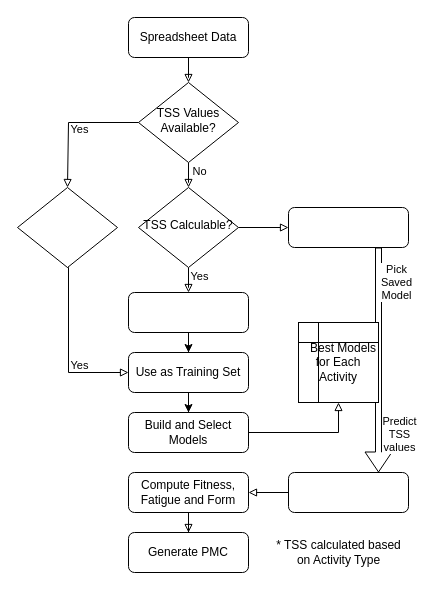
Some shapes in this 433 by 590 pixel diagram are drawn without their labels. Each missing label, with the box of its shape:
Calculate TSS from Additional Data *: (128, 292, 248, 332)
Fill in Missing TSS with Predictions: (288, 472, 408, 512)
Flag as Missing TSS: (288, 206, 408, 248)
More than 10 Data Points?: (16, 186, 118, 268)
